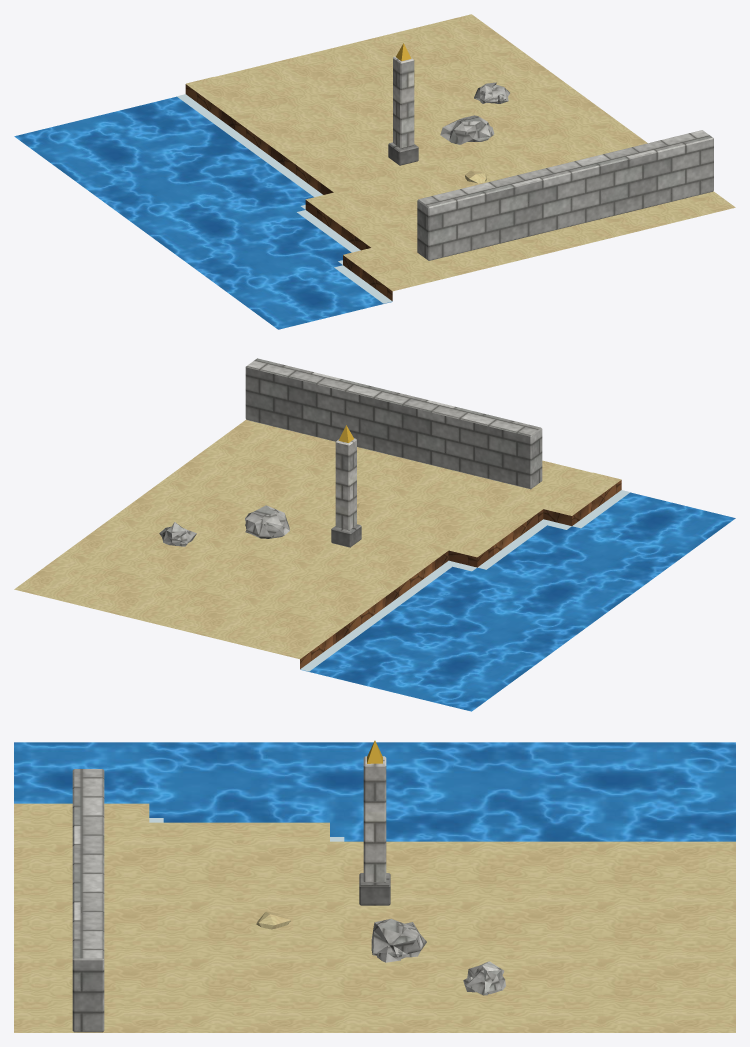
File: chunk_4_20.glb
3 views of the same model, one above another, from view 1: azimuth 30°, elevation 25°; view 2: azimuth 150°, elevation 25°; view 3: azimuth 270°, elevation 25° (orthographic). The views are drawn at different scales.
Visible parts, largest first — view 1: chunk_4_20; view 2: chunk_4_20; view 3: chunk_4_20.
Part boxes in pixels (x1,y1,x2,y2): chunk_4_20: [14, 14, 735, 329]; chunk_4_20: [14, 358, 735, 711]; chunk_4_20: [14, 740, 735, 1032].
Size of the model in its own units: 16 by 4.28 by 16.
9 materials, 7 textured.
